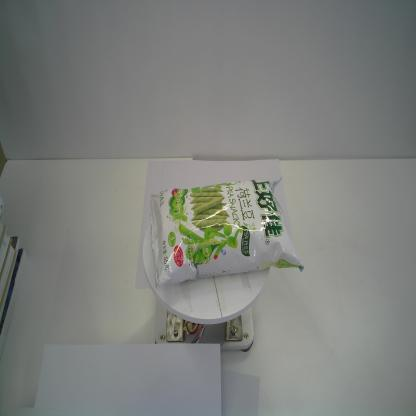Puffed Food: (147, 175, 306, 290)
